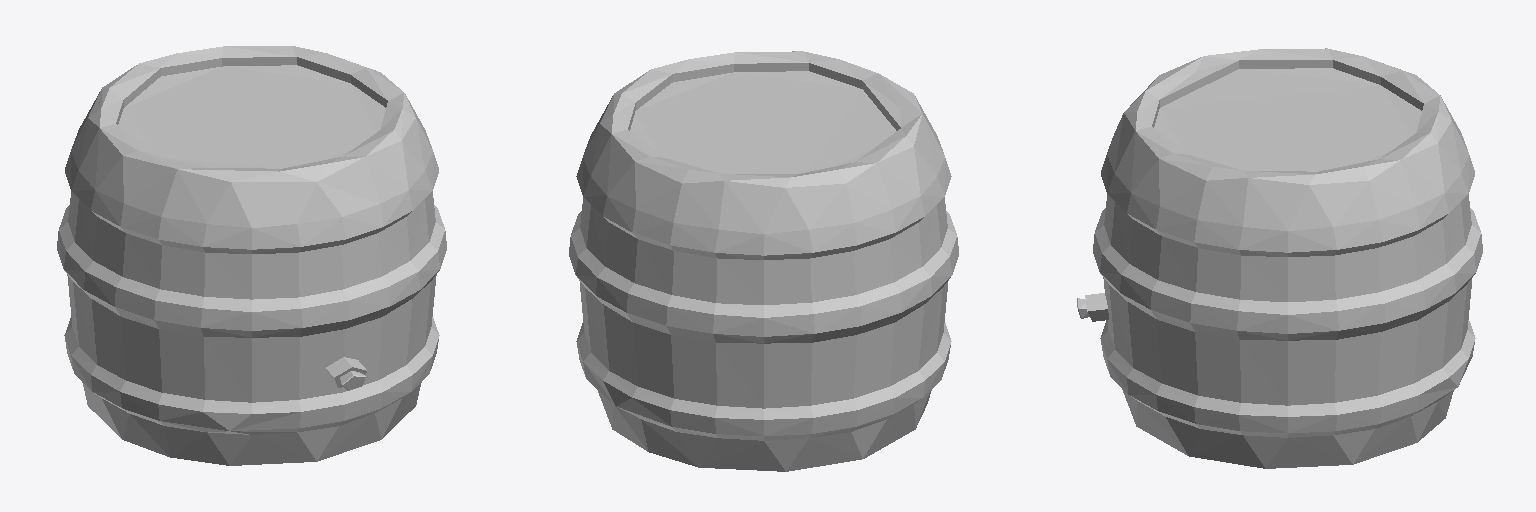
File: kursi4.obj
The picture shows the model from 3 angles: view 1: azimuth 30°, elevation 25°; view 2: azimuth 150°, elevation 25°; view 3: azimuth 270°, elevation 25°; orthographic projection.
Parts seen in each view (by area): view 1: Barrel_01_Cylinder.003; view 2: Barrel_01_Cylinder.003; view 3: Barrel_01_Cylinder.003.
Part boxes in pixels (left/top/right/bottom): Barrel_01_Cylinder.003: left=57, top=46, right=446, bottom=465; Barrel_01_Cylinder.003: left=569, top=51, right=958, bottom=471; Barrel_01_Cylinder.003: left=1077, top=48, right=1482, bottom=468.
Bounding box in the file's own units: 2.62 × 2.15 × 2.74.